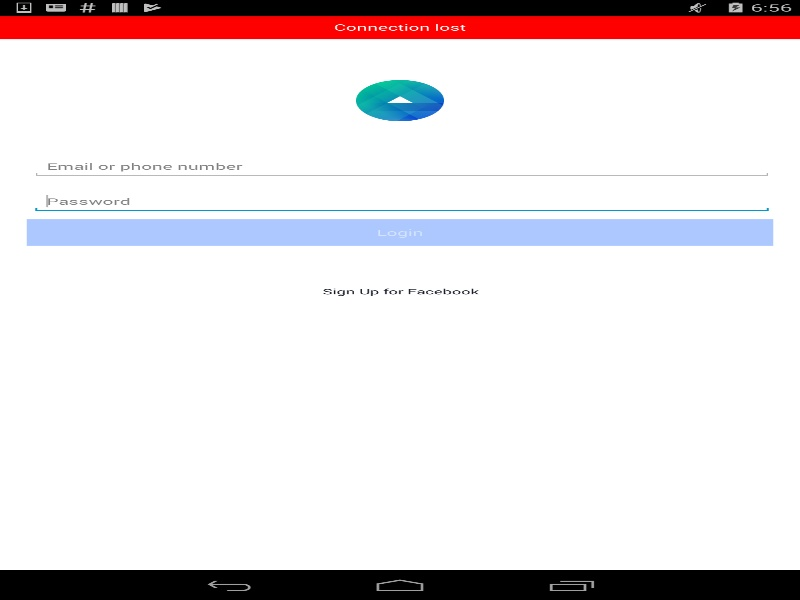Input: (30, 155, 773, 178), (30, 190, 773, 213)
